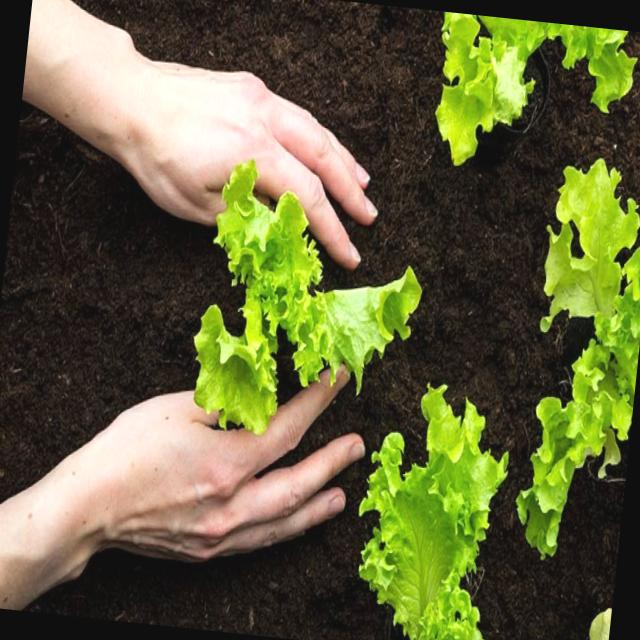inmadura: (194, 160, 421, 432), (195, 160, 421, 431), (359, 385, 508, 640)
